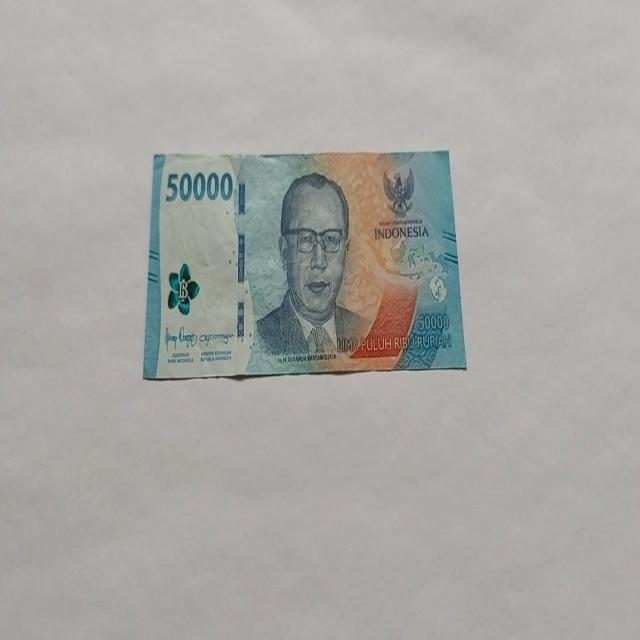lima puluh ribu rupiah: (142, 148, 466, 382), (246, 170, 373, 370)
